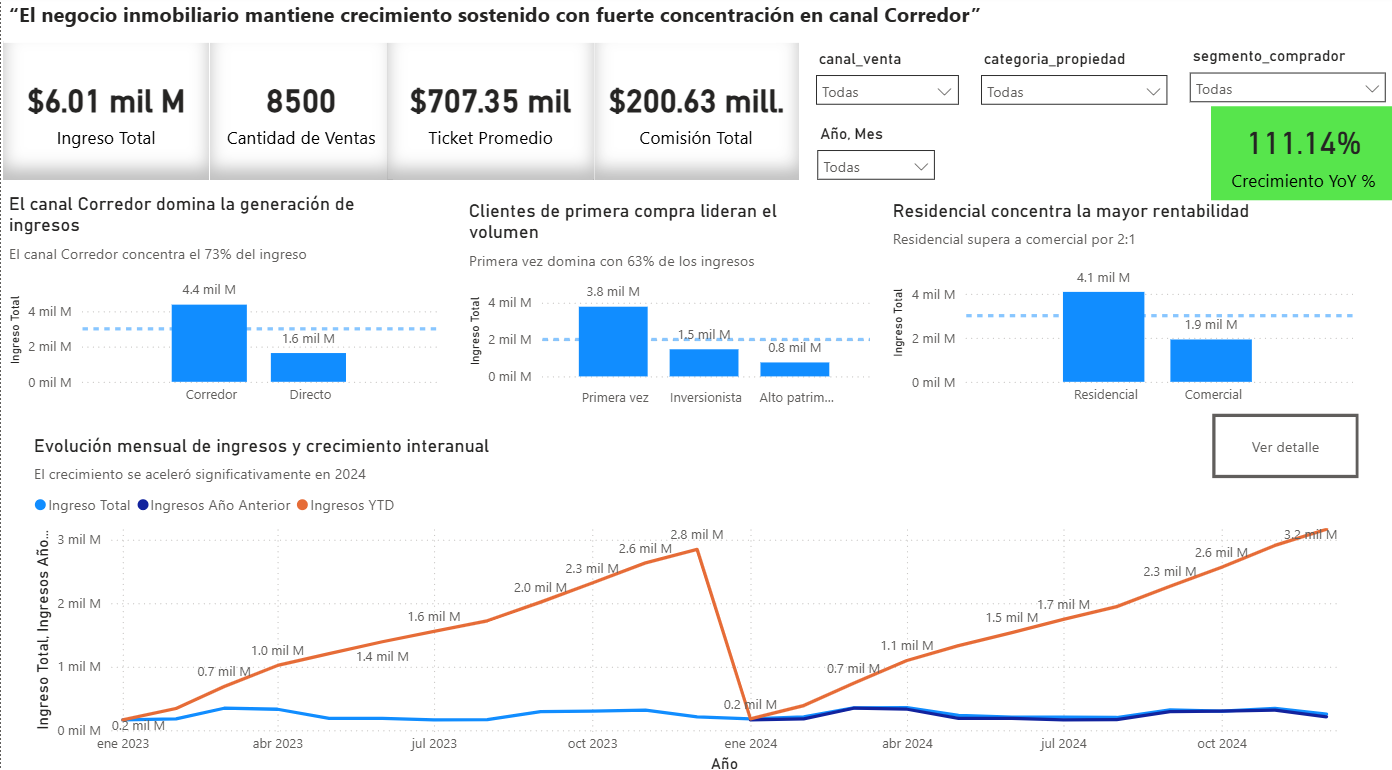

The dashboard page shown, as its layout file describes it:
{"tool":"powerbi","page":{"name":"Overview","canvas":[1280,720],"ordinal":0},"visuals":[{"type":"card","fields":{"Values":["hecho_ventas_propiedades.Ingreso Total"]},"box":[2.3,42.9,189.2,127.3],"z":0},{"type":"card","fields":{"Values":["hecho_ventas_propiedades.Comisión Total"]},"box":[544.3,42.9,189.2,127.3],"z":1000},{"type":"card","fields":{"Values":["hecho_ventas_propiedades.Cantidad de Ventas"]},"box":[191.4,42.9,168.5,127.3],"z":2000},{"type":"card","fields":{"Values":["hecho_ventas_propiedades.Ticket Promedio"]},"box":[355.1,42.9,190.4,127.3],"z":3000},{"type":"slicer","fields":{"Values":["dim_propiedades.categoria_propiedad"]},"box":[890.3,44.4,191.7,62.9],"z":4000},{"type":"clusteredColumnChart","title":"Residencial concentra la mayor rentabilidad","fields":{"Y":["hecho_ventas_propiedades.Ingreso Total"],"Category":["dim_propiedades.categoria_propiedad"]},"box":[814.3,188.4,433.3,196.7],"z":5000},{"type":"clusteredColumnChart","title":"El canal Corredor domina la generación de ingresos","fields":{"Y":["hecho_ventas_propiedades.Ingreso Total"],"Category":["hecho_ventas_propiedades.canal_venta"]},"box":[2.8,181.6,405.8,203.6],"z":6000},{"type":"slicer","fields":{"Values":["hecho_ventas_propiedades.canal_venta"]},"box":[739,44.4,151.2,68.9],"z":7000},{"type":"clusteredColumnChart","title":"Clientes de primera compra lideran el volumen","fields":{"Y":["hecho_ventas_propiedades.Ingreso Total"],"Category":["dim_clientes.segmento_comprador"]},"box":[425,188.4,378.3,196.7],"z":8000},{"type":"slicer","fields":{"Values":["dim_clientes.segmento_comprador"]},"box":[1081.9,42.9,200.7,70.4],"z":9000},{"type":"lineChart","title":"Evolución mensual de ingresos y crecimiento interanual","fields":{"Y":["hecho_ventas_propiedades.Ingreso Total","hecho_ventas_propiedades.Ventas Año Anterior","hecho_ventas_propiedades.Ingresos YTD"],"Category":["dim_fecha.Date.Variación.Jerarquía de fechas.Año","dim_fecha.Date.Variación.Jerarquía de fechas.Mes"]},"box":[25.8,404.4,1221.1,315.3],"z":10000},{"type":"card","fields":{"Values":["hecho_ventas_propiedades.Crecimiento YoY %"]},"box":[1112.3,102.1,170.6,86.7],"z":11000},{"type":"slicer","fields":{"Values":["dim_fecha.Date.Variación.Jerarquía de fechas.Año","dim_fecha.Date.Variación.Jerarquía de fechas.Mes"]},"box":[739.5,113.2,128.5,63.1],"z":12000},{"type":"textbox","box":[2.8,0,903.7,44],"z":12001},{"type":"actionButton","title":"Detalle","box":[1112.8,385.1,134.8,59.1],"z":12002}]}

Visuals, with their boxes in screenshot pixels (x1, y1, x2, y2), scaled from the page's 1280x720 canvas onto the 1392x770 screenshot:
card - hecho_ventas_propiedades.Ingreso Total: <box>3,46,208,182</box>
card - hecho_ventas_propiedades.Comisión Total: <box>592,46,798,182</box>
card - hecho_ventas_propiedades.Cantidad de Ventas: <box>208,46,391,182</box>
card - hecho_ventas_propiedades.Ticket Promedio: <box>386,46,593,182</box>
slicer - dim_propiedades.categoria_propiedad: <box>968,47,1177,115</box>
"Residencial concentra la mayor rentabilidad" clusteredColumnChart: <box>886,201,1357,412</box>
"El canal Corredor domina la generación de ingresos" clusteredColumnChart: <box>3,194,444,412</box>
slicer - hecho_ventas_propiedades.canal_venta: <box>804,47,968,121</box>
"Clientes de primera compra lideran el volumen" clusteredColumnChart: <box>462,201,874,412</box>
slicer - dim_clientes.segmento_comprador: <box>1177,46,1391,121</box>
"Evolución mensual de ingresos y crecimiento interanual" lineChart: <box>28,432,1356,769</box>
card - hecho_ventas_propiedades.Crecimiento YoY %: <box>1210,109,1391,202</box>
slicer - dim_fecha.Date.Variación.Jerarquía de fechas.Año x dim_fecha.Date.Variación.Jerarquía de fechas.Mes: <box>804,121,944,189</box>
textbox: <box>3,0,986,47</box>
"Detalle" actionButton: <box>1210,412,1357,475</box>
